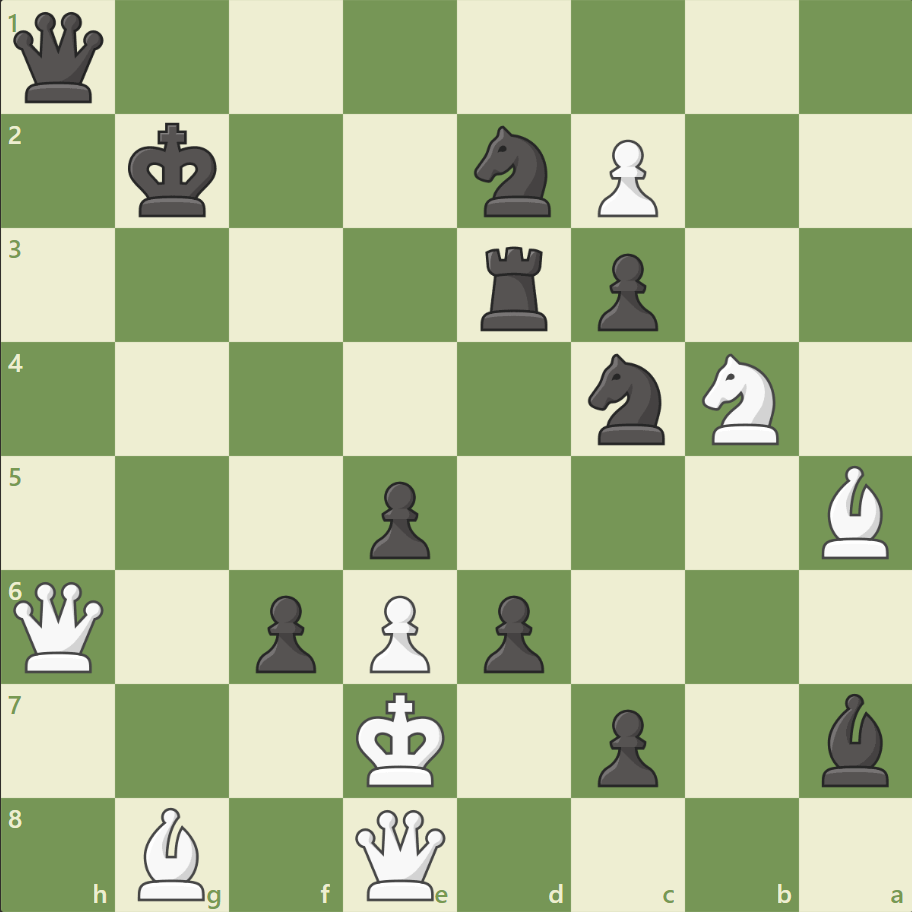B: (131, 801, 215, 904), (812, 460, 896, 563)
K: (351, 685, 451, 793)
N: (692, 348, 789, 450)
P: (361, 586, 435, 677), (588, 132, 662, 223)
Q: (10, 576, 109, 676), (351, 804, 450, 903)
b: (812, 687, 896, 790)
k: (124, 117, 224, 225)
n: (579, 348, 676, 450), (465, 121, 562, 223)
p: (474, 586, 549, 677), (247, 586, 322, 677), (588, 700, 662, 791), (361, 473, 435, 564), (588, 246, 662, 337)
q: (10, 9, 109, 108)
r: (473, 239, 556, 336)
